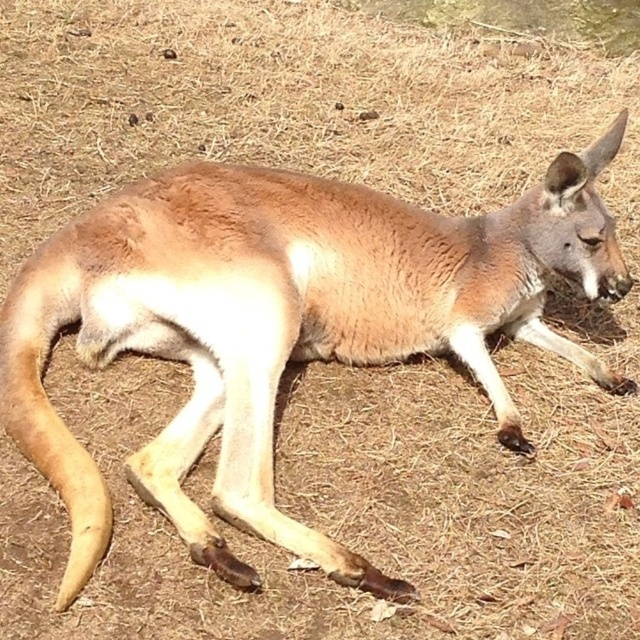Kangaroo: (0, 107, 639, 613)
